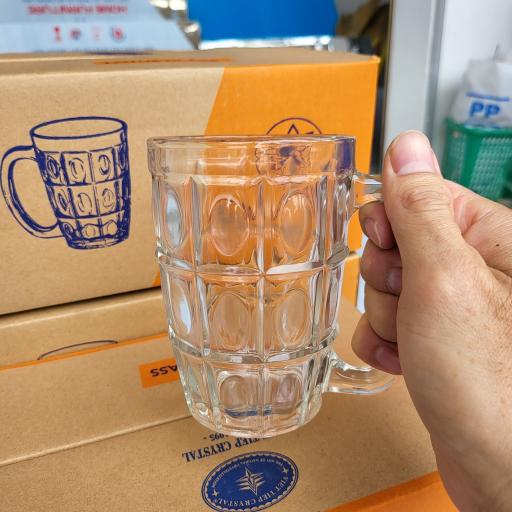cup: (148, 135, 392, 436)
